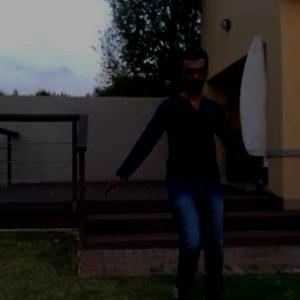land: (116, 66, 254, 293)
